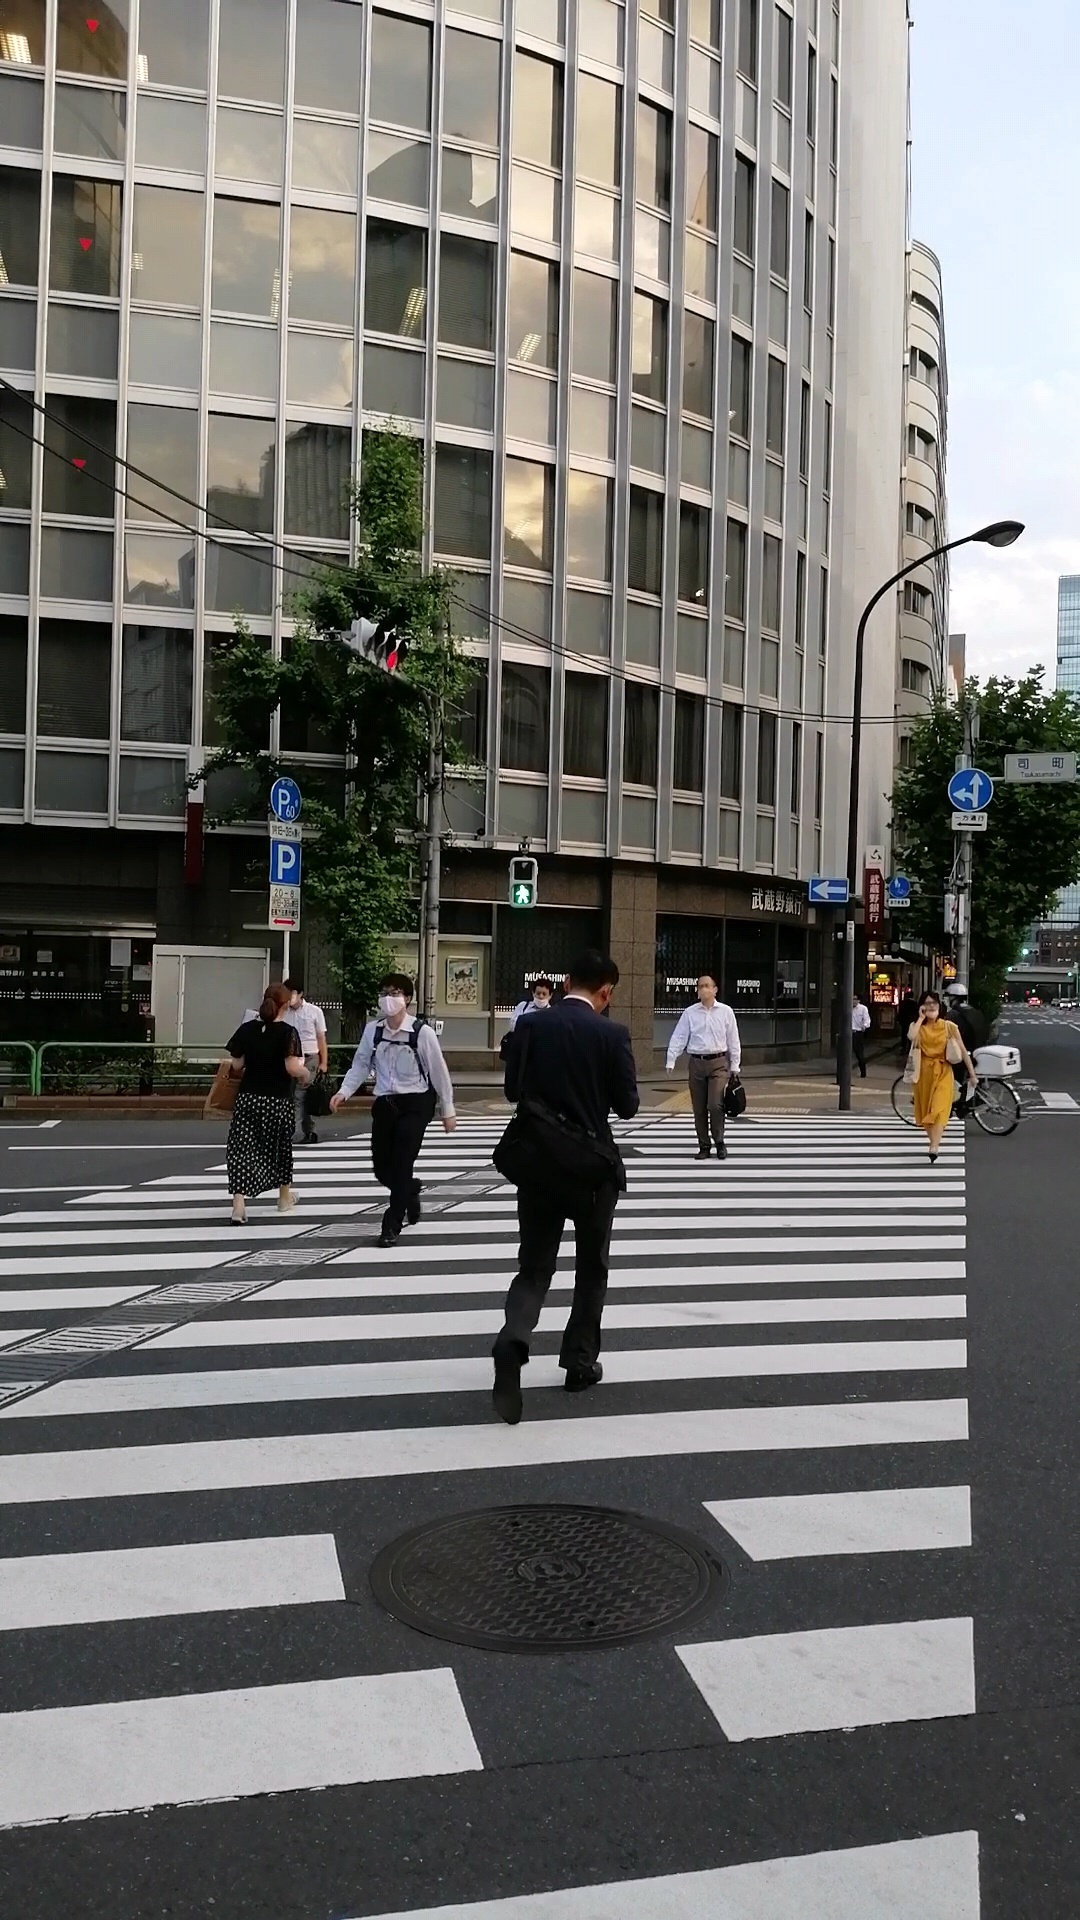green: (506, 855, 538, 909)
